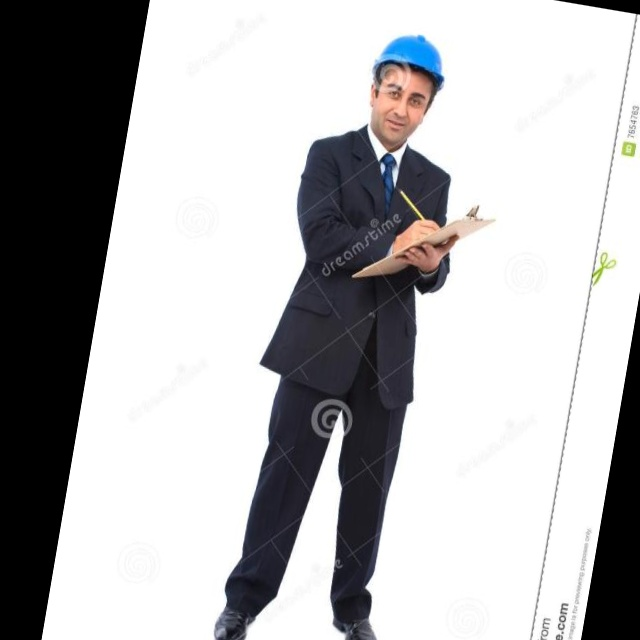Con_Casco: (362, 28, 453, 143)
Sin_Chaleco: (266, 128, 459, 399)
